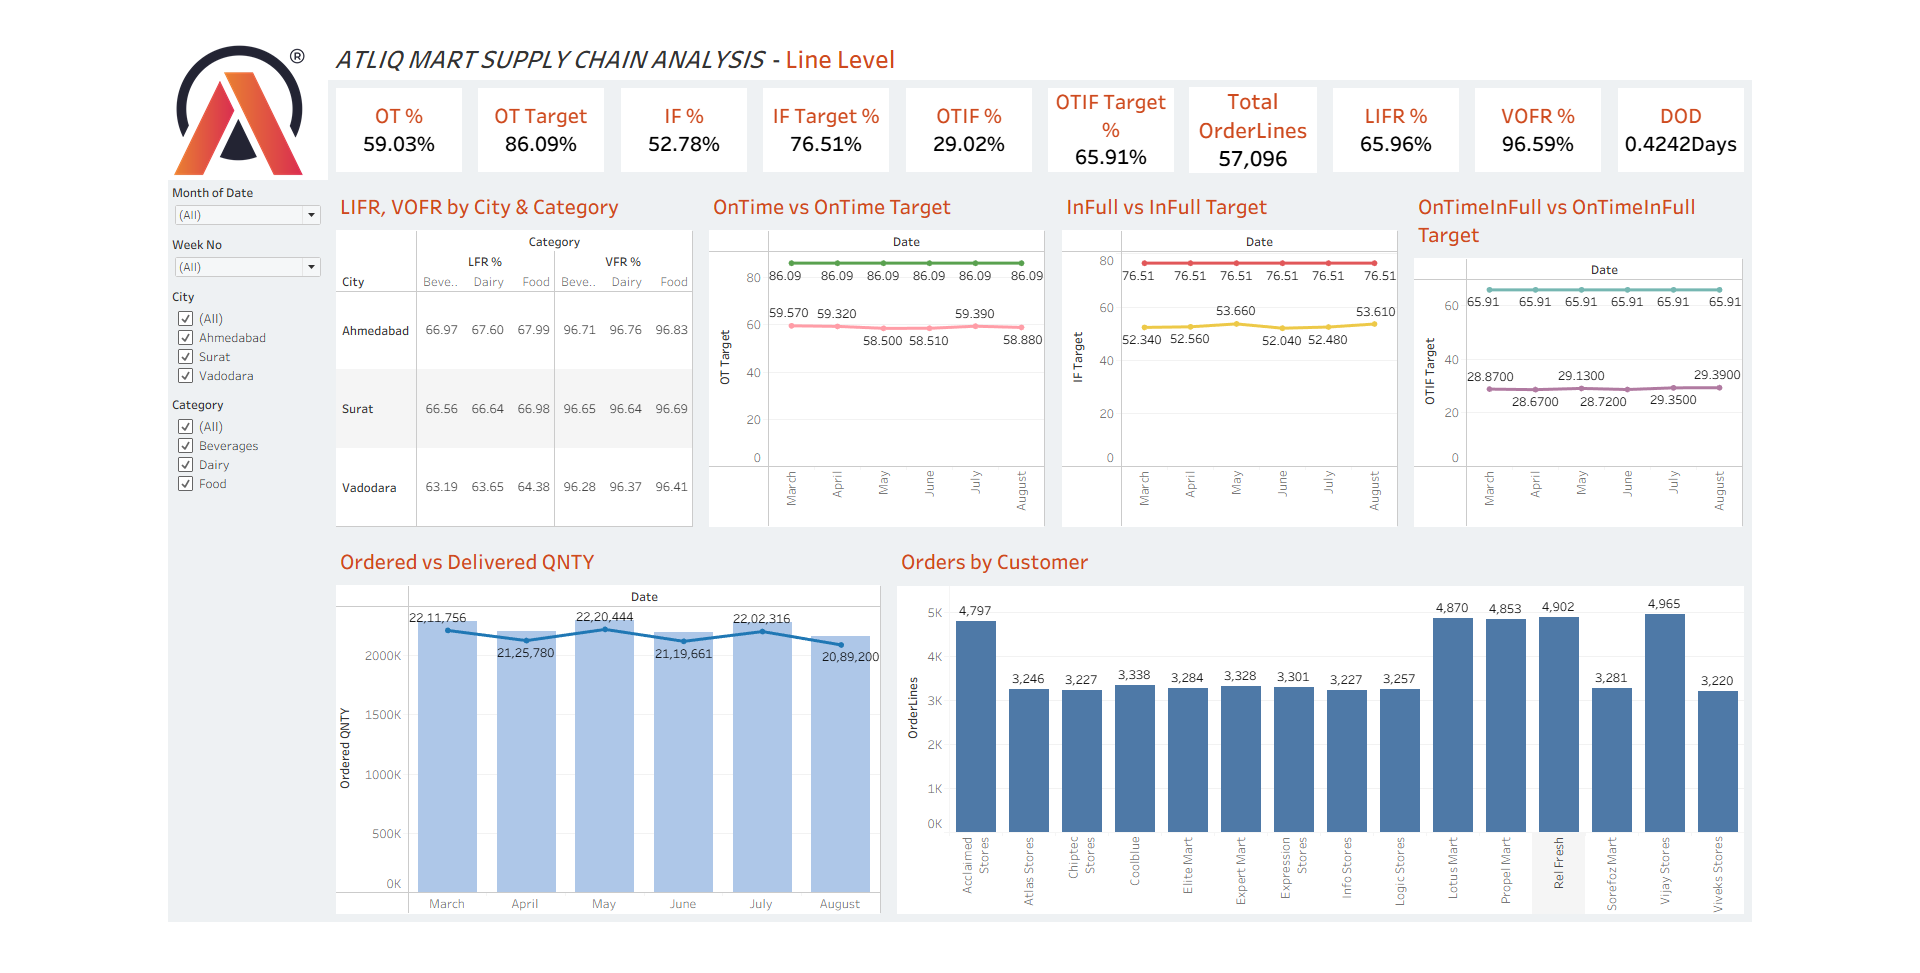

This screenshot's page, from the dashboard's own definition file:
{"tool":"tableau","page":{"name":"Line Level","canvas":[1600,900],"ordinal":0},"visuals":[{"type":"image","param":"Image/Atliq_logo_for_dashboard.png","box":[8,8,160,142]},{"type":"title","box":[168,8,1424,42]},{"type":"worksheet","title":"OT %","mark":"Automatic","box":[168,50,142.4,100]},{"type":"worksheet","title":"OT Target","mark":"Automatic","box":[310.4,50,142.4,100]},{"type":"worksheet","title":"IF %","mark":"Automatic","box":[452.8,50,142.4,100]},{"type":"worksheet","title":"IF Target","mark":"Automatic","box":[595.2,50,142.4,100]},{"type":"worksheet","title":"OTIF %","mark":"Automatic","box":[737.6,50,142.4,100]},{"type":"worksheet","title":"OTIF Target","mark":"Automatic","box":[880,50,142.4,100]},{"type":"worksheet","title":"OrderLine","mark":"Automatic","box":[1022.4,50,142.4,100]},{"type":"worksheet","title":"LFR %","mark":"Automatic","box":[1164.8,50,142.4,100]},{"type":"worksheet","title":"VFR %","mark":"Automatic","box":[1307.2,50,142.4,100]},{"type":"worksheet","title":"DOD","mark":"Automatic","box":[1449.6,50,142.4,100]},{"type":"filter","title":"DOD","param":"[federated.1tx64m90us22kp15gms3t061nwbw].[mn:Date:ok]","box":[8,150,160,52]},{"type":"worksheet","title":"LFR & VFR(%) by City & Category","mark":"Automatic","rows":["city"],"cols":["category"],"box":[168,150,373.4,355]},{"type":"worksheet","title":"OT vs Target","mark":"Automatic","rows":["Calculation_1114640975975804931","Calculation_1114640975993081872"],"cols":["Date"],"box":[541.4,150,352.4,355]},{"type":"worksheet","title":"IF vs Target","mark":"Automatic","rows":["Calculation_1114640975976292356","Calculation_1114640975993704465"],"cols":["Date"],"box":[893.8,150,352.4,355]},{"type":"worksheet","title":"OTIF vs Target","mark":"Automatic","rows":["Calculation_1114640975976456197","Calculation_1114640975993991186"],"cols":["Date"],"box":[1246.3,150,345.4,355]},{"type":"filter","title":"DOD","param":"[federated.1tx64m90us22kp15gms3t061nwbw].[none:Week_No:nk]","box":[8,202,160,52]},{"type":"filter","title":"DOD","param":"[federated.1tx64m90us22kp15gms3t061nwbw].[none:city:nk]","box":[8,254,160,108]},{"type":"filter","title":"DOD","param":"[federated.1tx64m90us22kp15gms3t061nwbw].[none:category:nk]","box":[8,362,160,108]},{"type":"worksheet","title":"Ordered vs Delivered QNTY","mark":"Automatic","rows":["Calculation_1114640975975120898","Calculation_1114640975983411209"],"cols":["Date"],"box":[168,505,561,387]},{"type":"worksheet","title":"OrderLine By customer","mark":"Automatic","rows":["Calculation_1114640975972610048"],"cols":["customer_name"],"box":[729,505,863,387]}]}

Visuals, with their boxes on the page's 1600x900 design canvas (x1, y1, x2, y2). These are canvas units, not pixel positions in the 1920x973 screenshot, which may show the page scaled, cropped or inside an application window:
image: crop(8, 8, 168, 150)
title: crop(168, 8, 1592, 50)
"OT %" worksheet: crop(168, 50, 310, 150)
"OT Target" worksheet: crop(310, 50, 453, 150)
"IF %" worksheet: crop(453, 50, 595, 150)
"IF Target" worksheet: crop(595, 50, 738, 150)
"OTIF %" worksheet: crop(738, 50, 880, 150)
"OTIF Target" worksheet: crop(880, 50, 1022, 150)
"OrderLine" worksheet: crop(1022, 50, 1165, 150)
"LFR %" worksheet: crop(1165, 50, 1307, 150)
"VFR %" worksheet: crop(1307, 50, 1450, 150)
"DOD" worksheet: crop(1450, 50, 1592, 150)
"DOD" filter: crop(8, 150, 168, 202)
"LFR & VFR(%) by City & Category" worksheet: crop(168, 150, 541, 505)
"OT vs Target" worksheet: crop(541, 150, 894, 505)
"IF vs Target" worksheet: crop(894, 150, 1246, 505)
"OTIF vs Target" worksheet: crop(1246, 150, 1592, 505)
"DOD" filter: crop(8, 202, 168, 254)
"DOD" filter: crop(8, 254, 168, 362)
"DOD" filter: crop(8, 362, 168, 470)
"Ordered vs Delivered QNTY" worksheet: crop(168, 505, 729, 892)
"OrderLine By customer" worksheet: crop(729, 505, 1592, 892)
